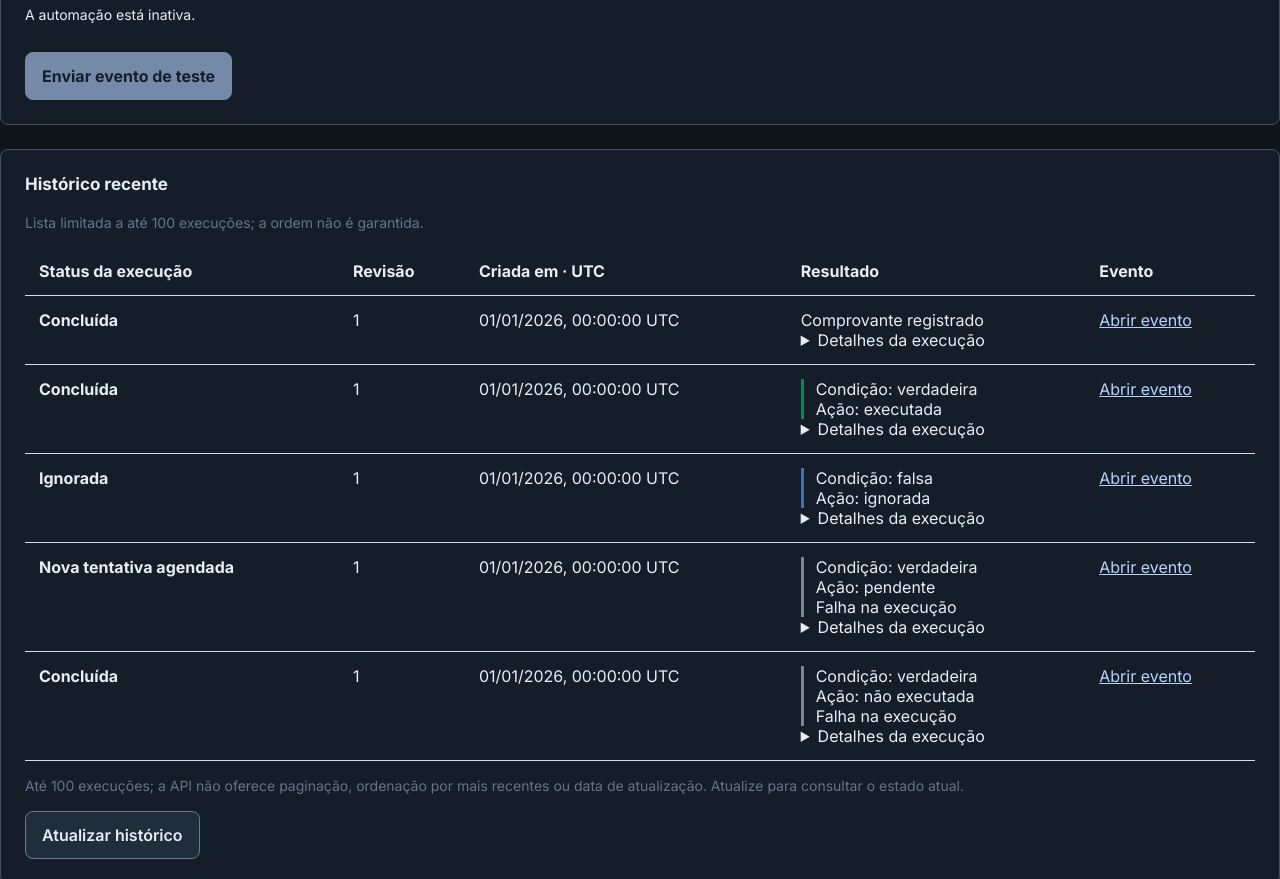
Test: execution history interactions › shows mixed v1 and v2 results, expanded decisions and event-level retry without receipt values
(page scrolled)
Expected: the 2nd row shows "Comprovante registrado", [801, 310, 984, 330]
Expected: the 3rd row shows "Ação: executada", [25, 365, 1255, 454]
Click the 2nd heading "Detalhes da execução". click: (901, 429)
box: [818, 419, 985, 439]
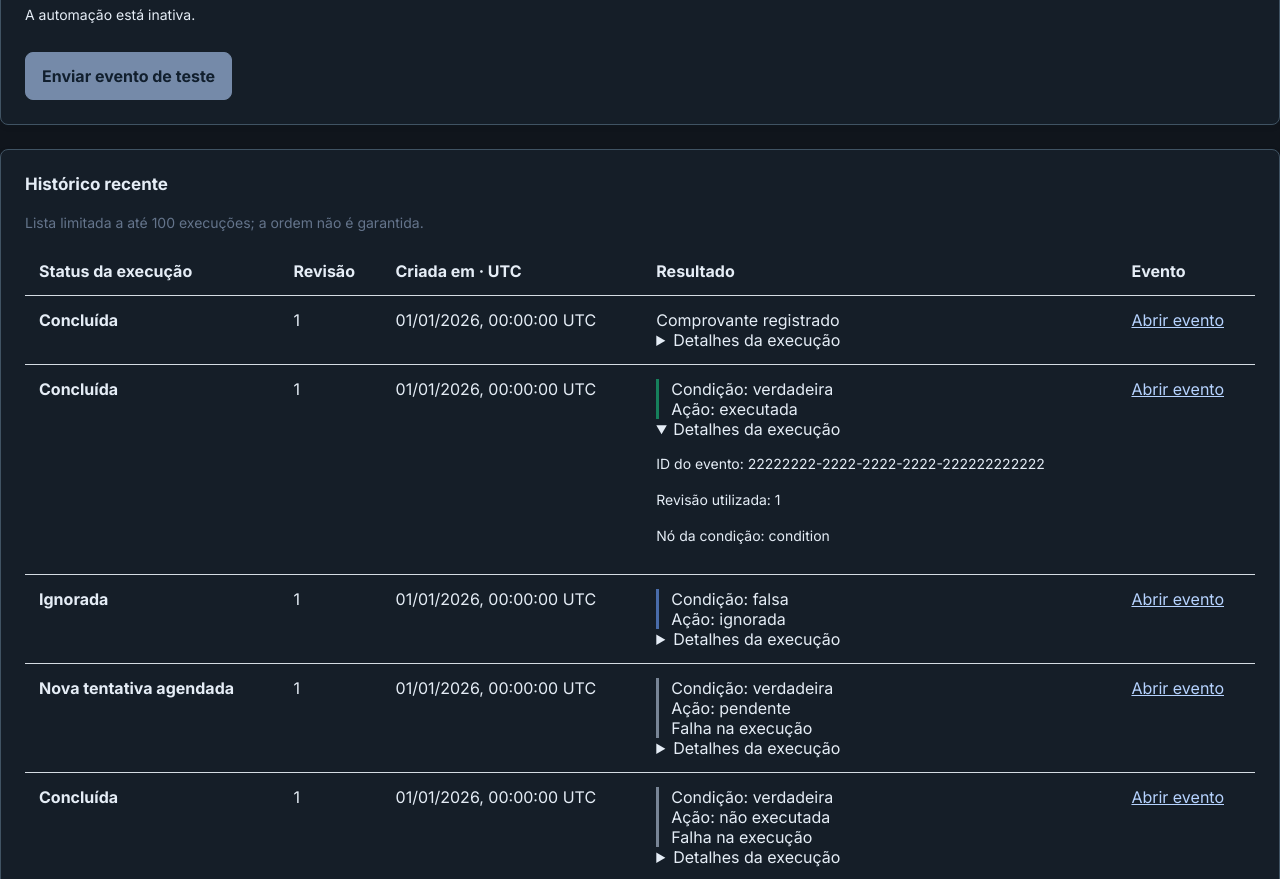
Expected: the text "Revisão utilizada: 1" is shown, [656, 491, 781, 508]
Expected: the text "Nó da condição: condition" is shown, [656, 527, 830, 544]
Click the heading "Detalhes da execução" below "Condição: falsa". click: (757, 639)
box: [673, 629, 840, 649]
(page scrolled)
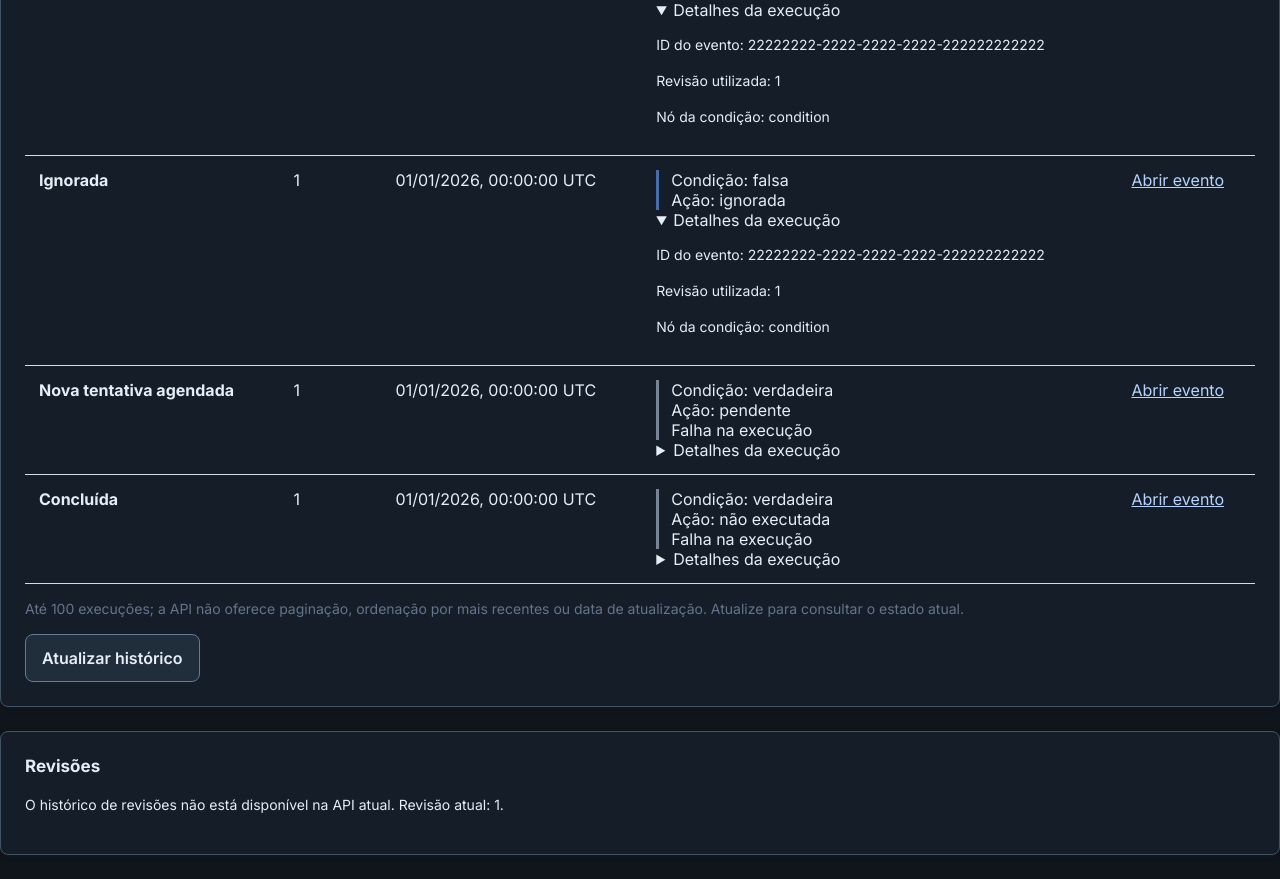
Expected: the row that starts with "Nova tentativa agendada" shows "Ação: pendente", [25, 366, 1255, 475]
Expected: the text "Revisão utilizada: 1" below "Condição: falsa" is shown, [656, 282, 781, 299]
Expected: the text "Nó da condição: condition" below "Condição: falsa" is shown, [656, 318, 830, 335]
Click the heading "Detalhes da execução" below "não executada". click: (757, 559)
box: [673, 549, 840, 569]
(page scrolled)
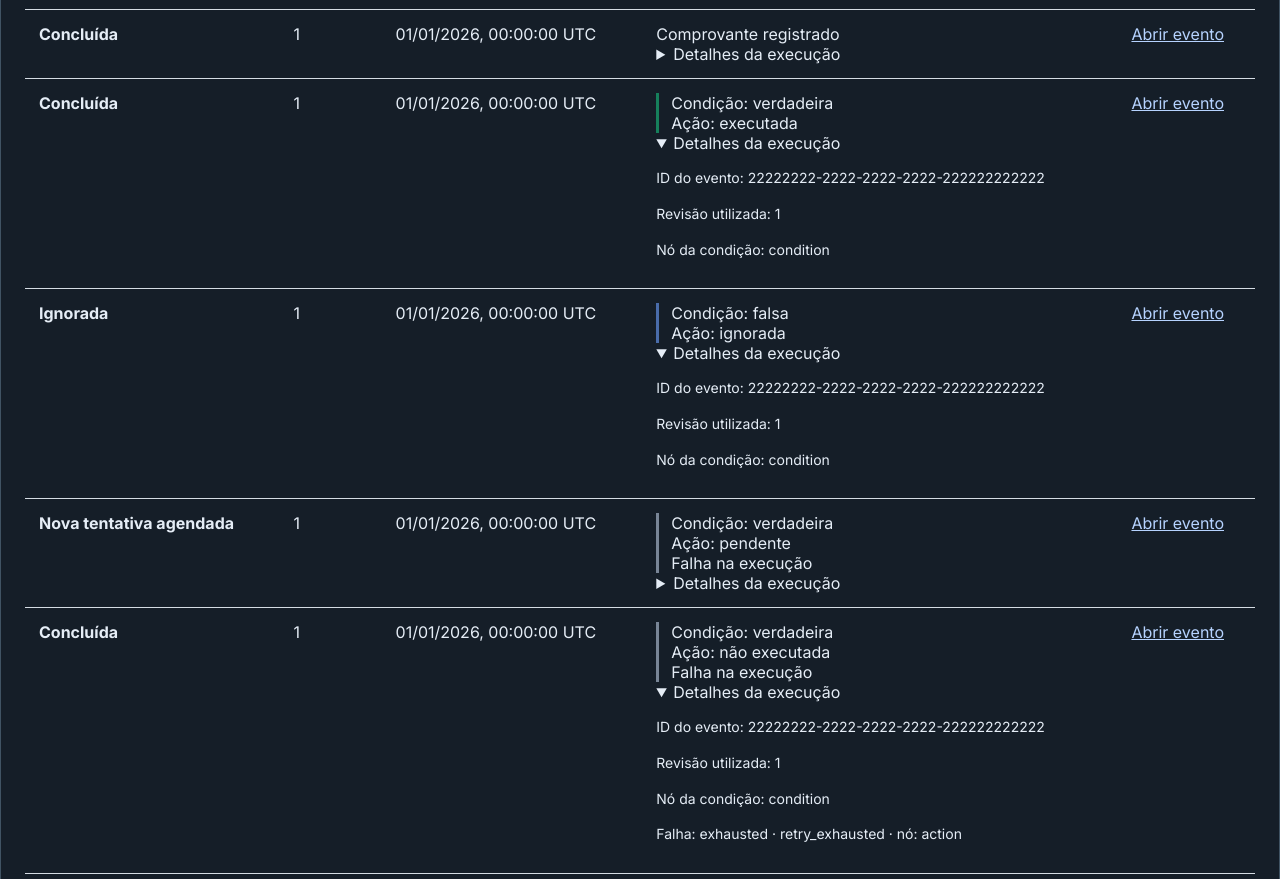
Expected: the text "Detalhes da execução" shows "exhausted · retry_exhausted · nó: action", [656, 682, 1104, 845]
